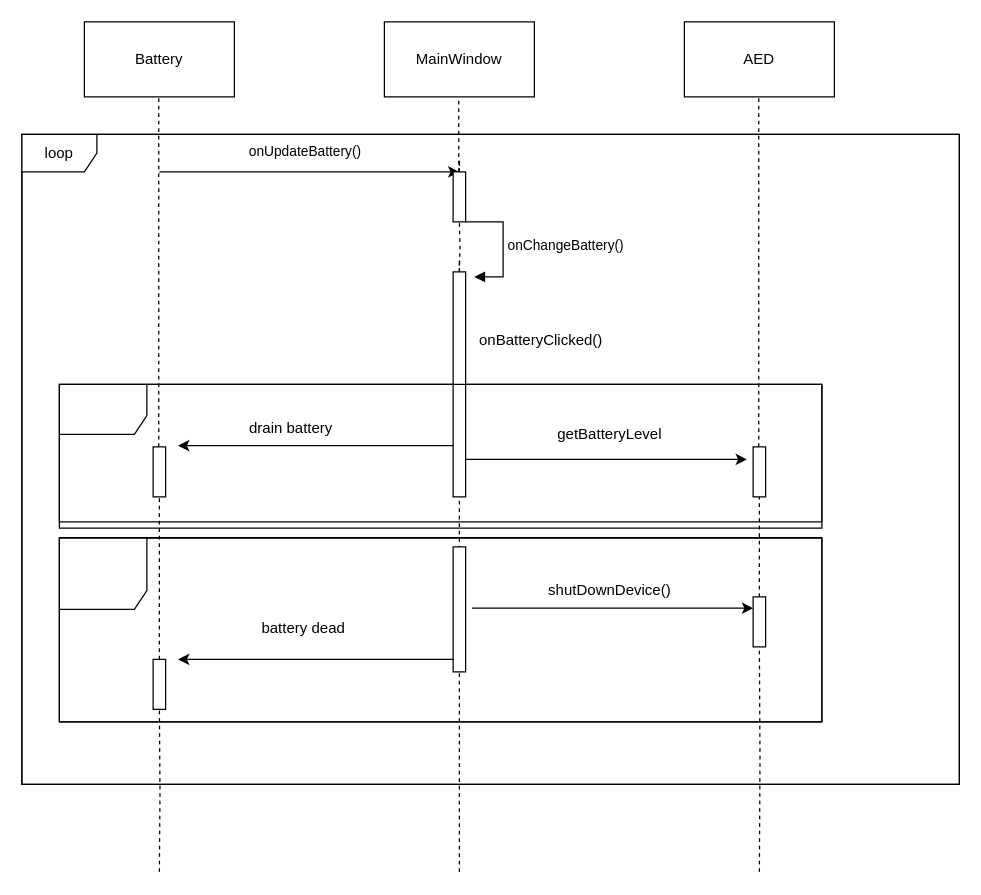
The diagram is 981 pixels wide and 895 high, and some of its shapes have lost their labels. The shapes that lost their labels are listed below. From the top down, each one's box as (x1, y1, x2, y2) in pixels, then its label:
(58, 383, 822, 522): if: battery remains
(58, 537, 822, 722): else: battery is drained
